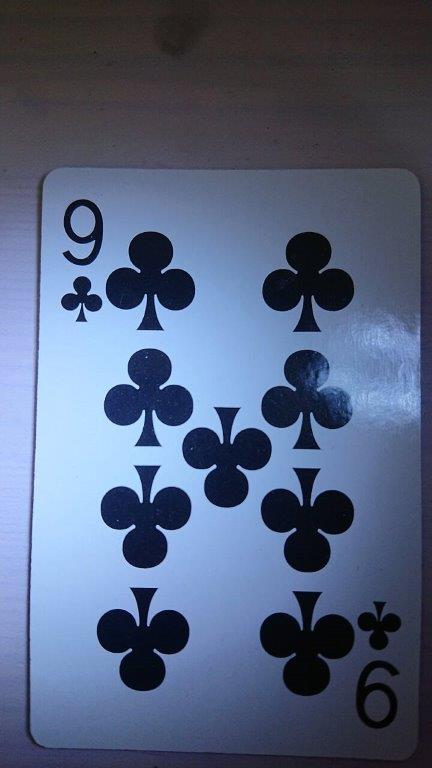9C: (27, 165, 422, 763)
